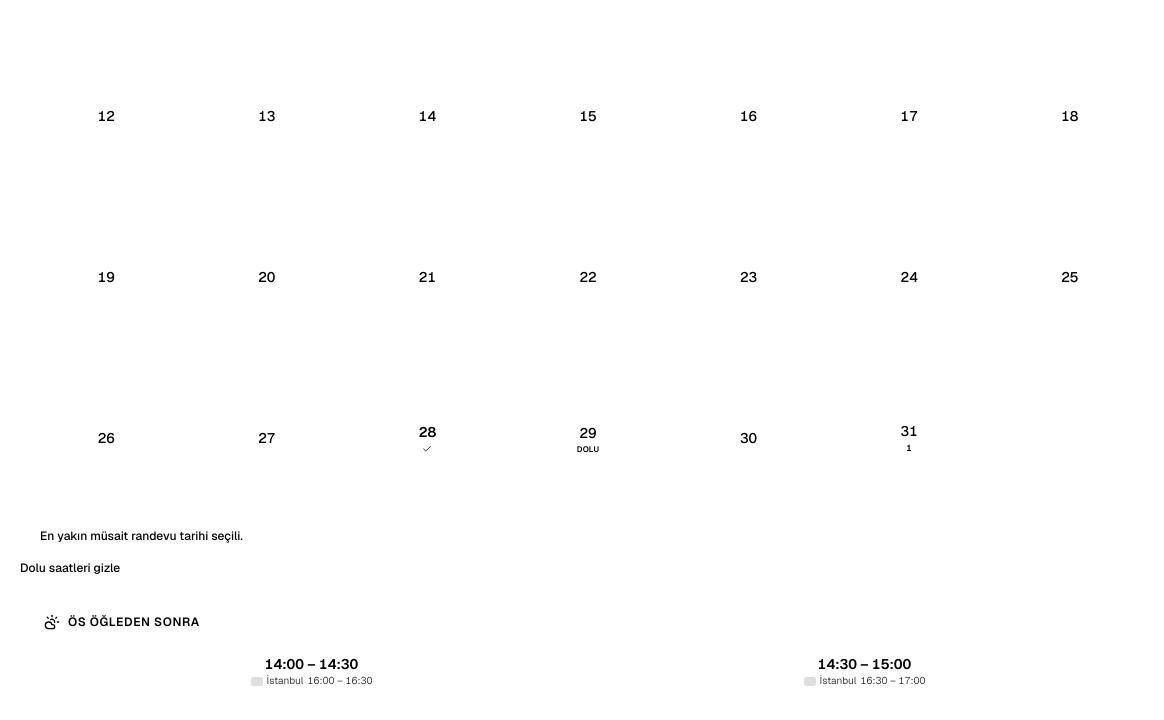
hasta takvimi › müsait gün rozetli, dolu gün 'Dolu', slotsuz gün soluk ve 'Doktor bu gün hizmet vermiyor'; en erken kısayolu ve haftalık özet
(page scrolled)
Click the button labelled "31 1": (909, 438) [831, 359, 987, 516]
(page scrolled)
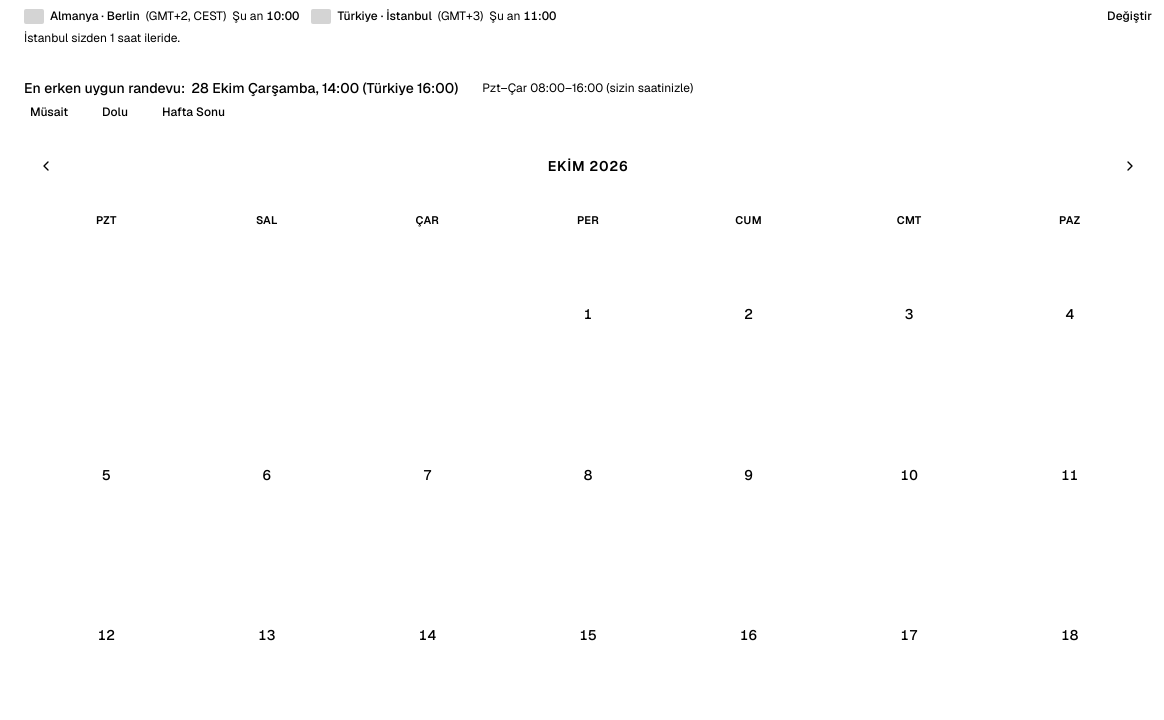
Click the button that starts with "En erken uygun randevu:": (241, 88) [12, 72, 470, 104]
(page scrolled)
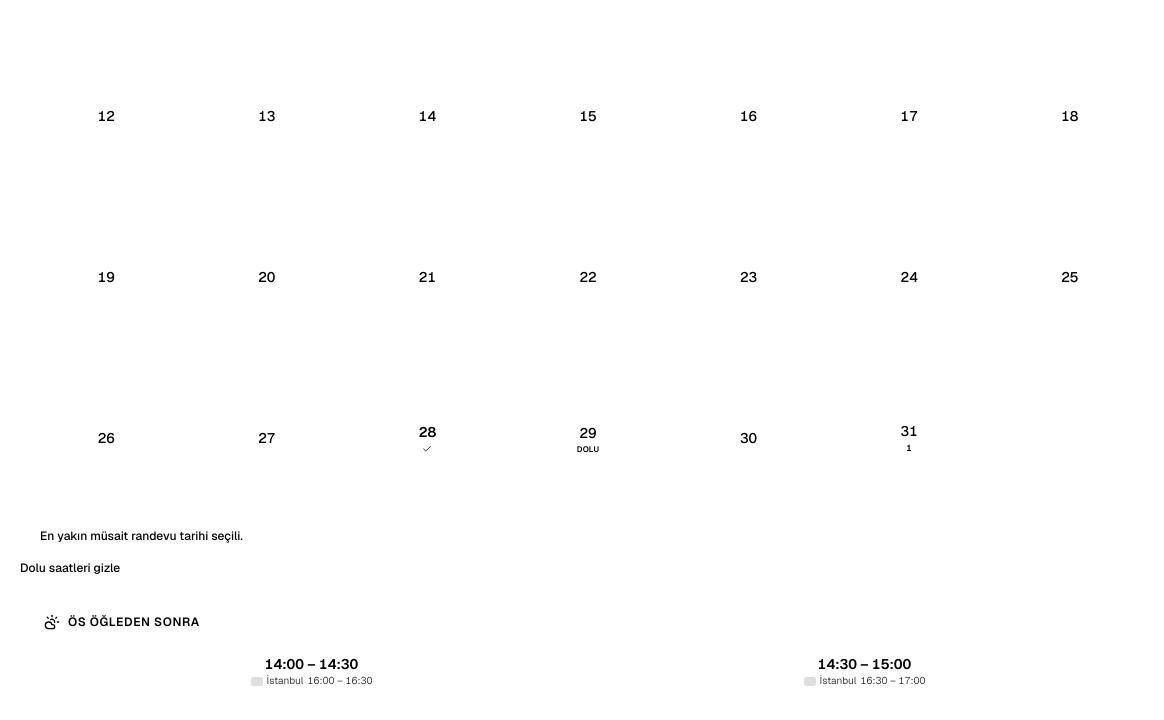
Now the button labelled "28" is shown, box [349, 359, 506, 516]
